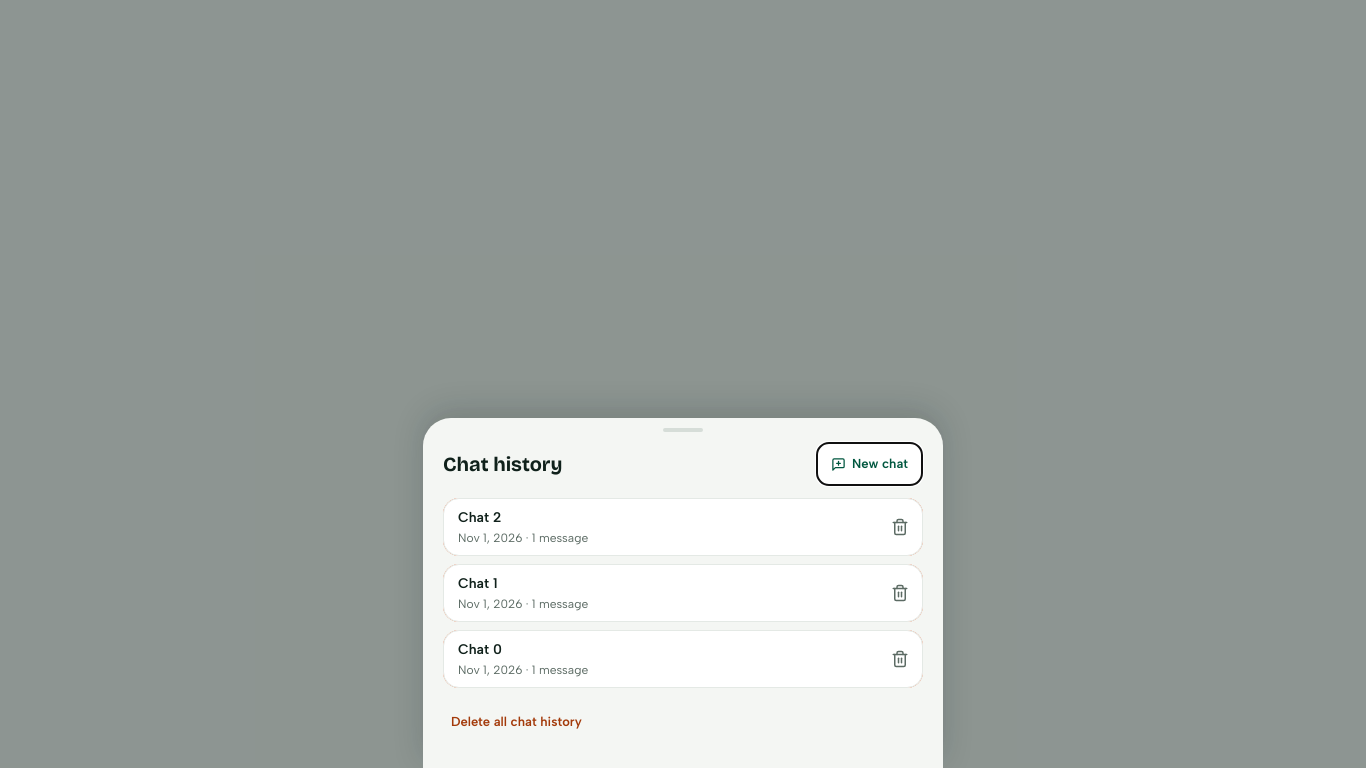
Test case: ChatHistorySheet › "Delete all chat history" asks first (no confirm()), then soft-deletes everything
Click the button with test id "chat-history-delete-all": {"x": 516, "y": 722} [443, 700, 590, 744]
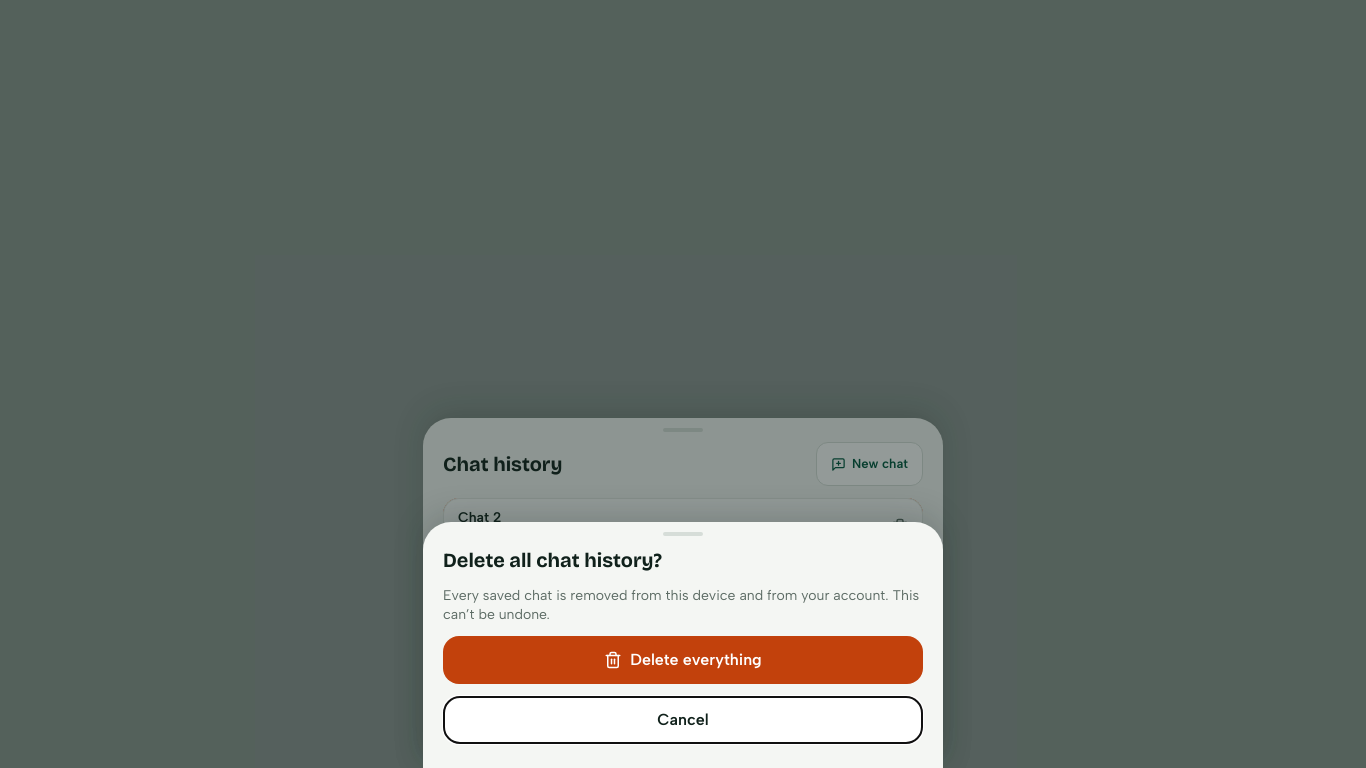
Click the button with test id "delete-all-confirm": {"x": 683, "y": 660} [443, 636, 923, 684]
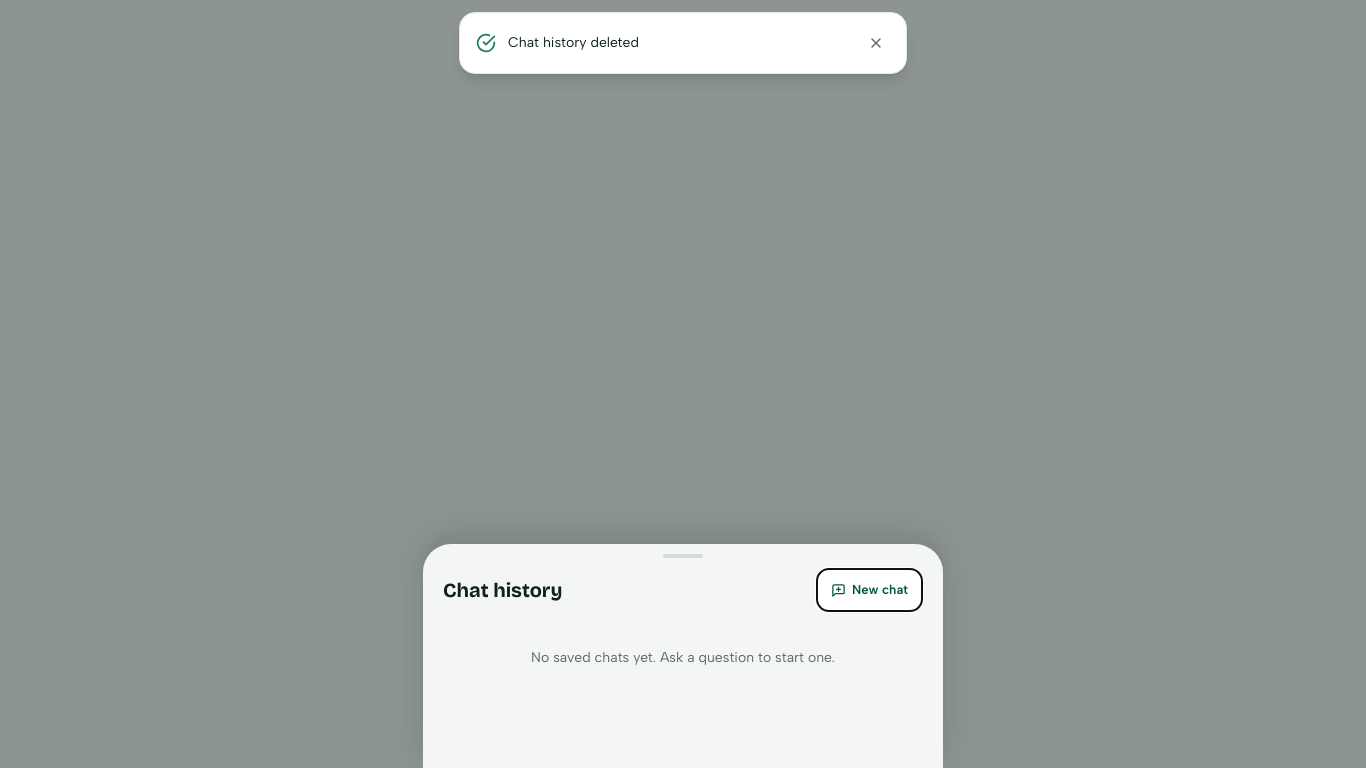
Check: the text "No saved chats yet. Ask a question to start one." is shown, box [531, 649, 835, 666]
